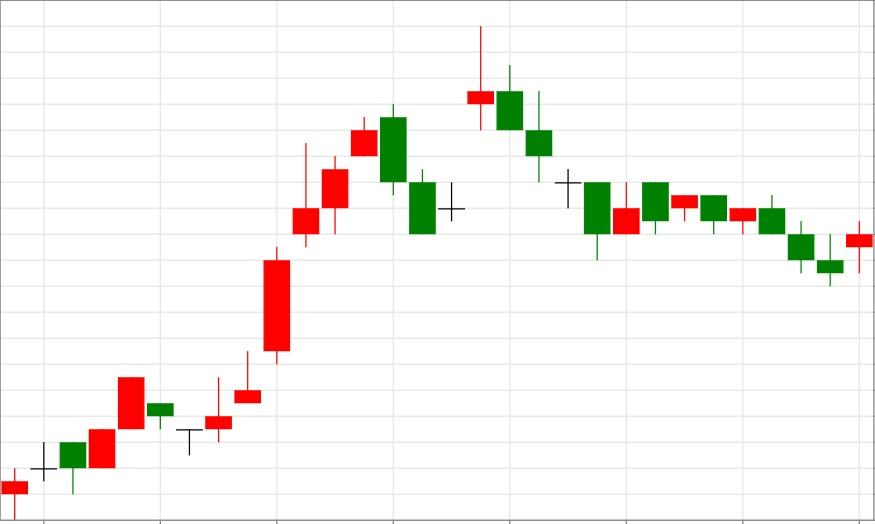bearish_engulfing_fall: (176, 105, 408, 456)
